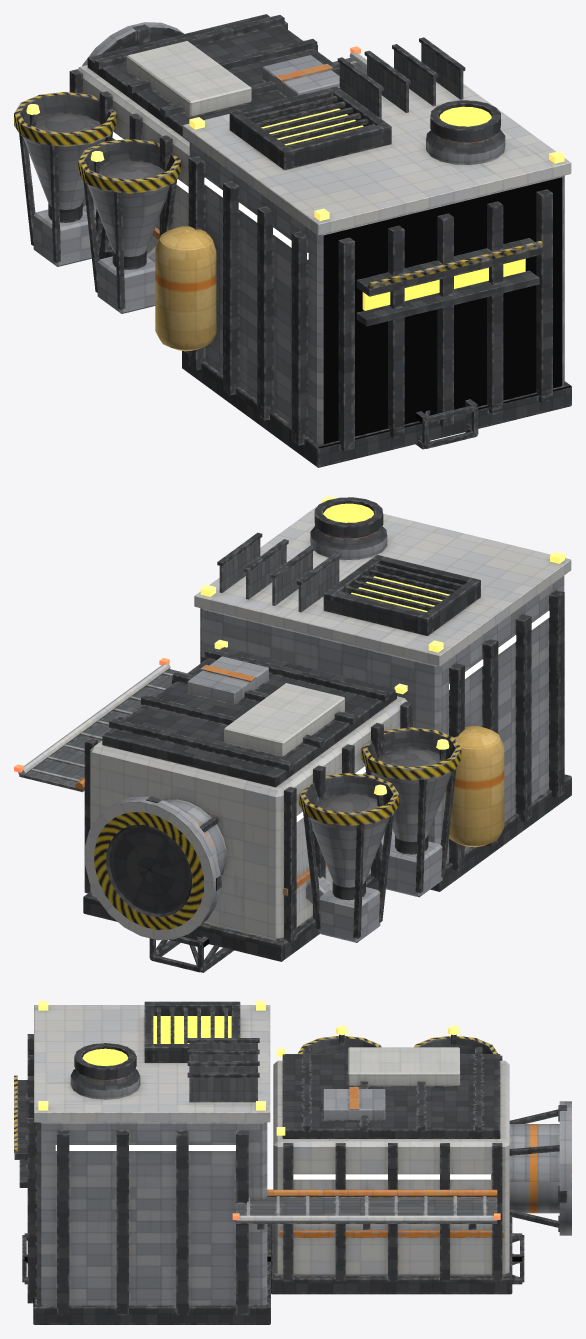
File: addon_factory.glb
3 views of the same model, one above another, from view 1: azimuth 30°, elevation 25°; view 2: azimuth 150°, elevation 25°; view 3: azimuth 270°, elevation 25° (orthographic). The views are drawn at different scales.
Parts seen in each view (by area): view 1: addon_factory_hull, factory_furnace_glow, addon_factory_lights; view 2: addon_factory_hull, addon_factory_lights, factory_furnace_glow; view 3: addon_factory_hull, addon_factory_lights, factory_furnace_glow.
Part boxes in pixels (x1,y1,x2,y2): addon_factory_hull: (14, 14, 571, 467); factory_furnace_glow: (261, 106, 525, 310); addon_factory_lights: (26, 46, 564, 259); addon_factory_hull: (18, 497, 571, 972); addon_factory_lights: (14, 496, 564, 822); factory_furnace_glow: (323, 503, 449, 611); addon_factory_hull: (14, 1001, 571, 1324); addon_factory_lights: (38, 1001, 500, 1219); factory_furnace_glow: (83, 1016, 231, 1065).
Size of the model in its own units: 29.37 by 21.65 by 44.85.
5 materials, 1 textured.
